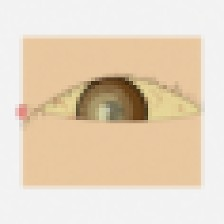corneal_ulcer: (75, 88, 135, 135)
